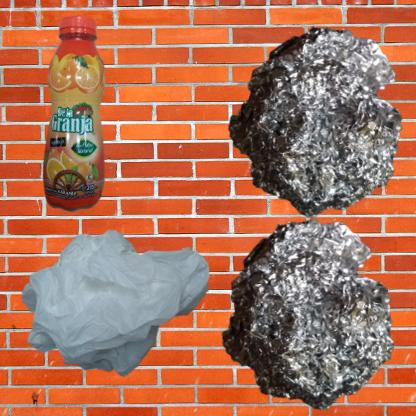aluminio: (213, 10, 416, 239), (213, 213, 400, 416)
bolsa: (10, 213, 236, 401)
botella: (10, 10, 169, 256)
